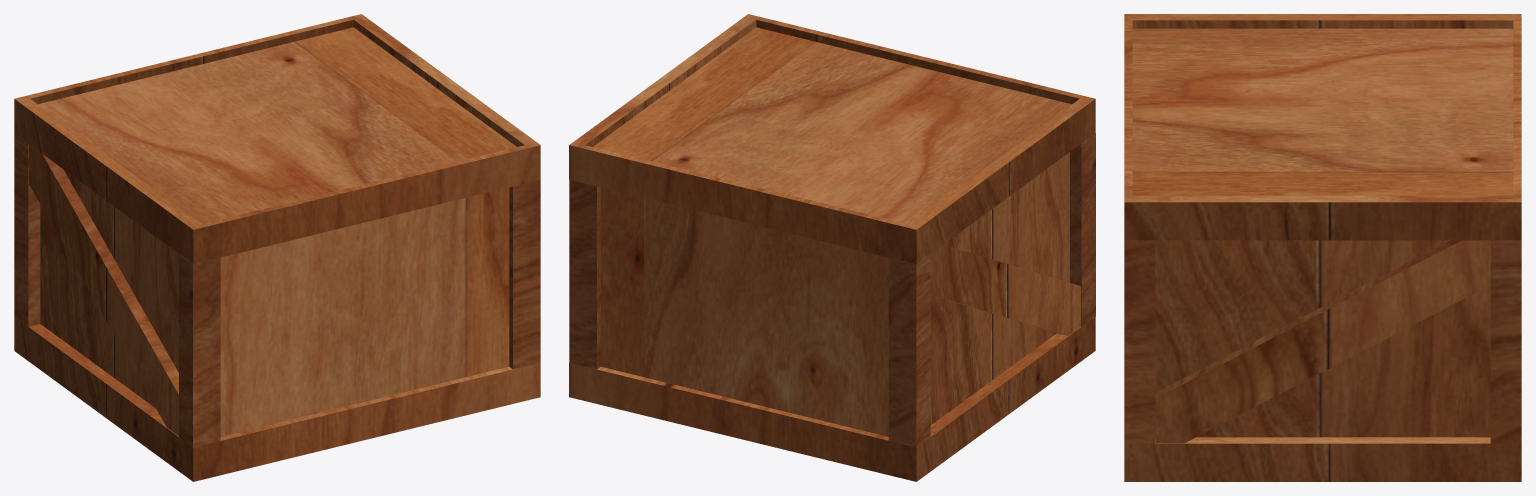
File: Crate.fbx
3 renders of one model, left to right at view 1: azimuth 30°, elevation 25°; view 2: azimuth 150°, elevation 25°; view 3: azimuth 270°, elevation 25°, orthographic. The views are drawn at different scales.
Parts seen in each view (by area): view 1: polySurface1; view 2: polySurface1; view 3: polySurface1.
Boxes of the visible parts, x1,y1,x2,y2 form: polySurface1: (14,14,540,481); polySurface1: (569,14,1095,481); polySurface1: (1124,14,1521,481).
Size of the model in its own units: 5.71 by 3.95 by 5.09.
1 material, 1 textured.
